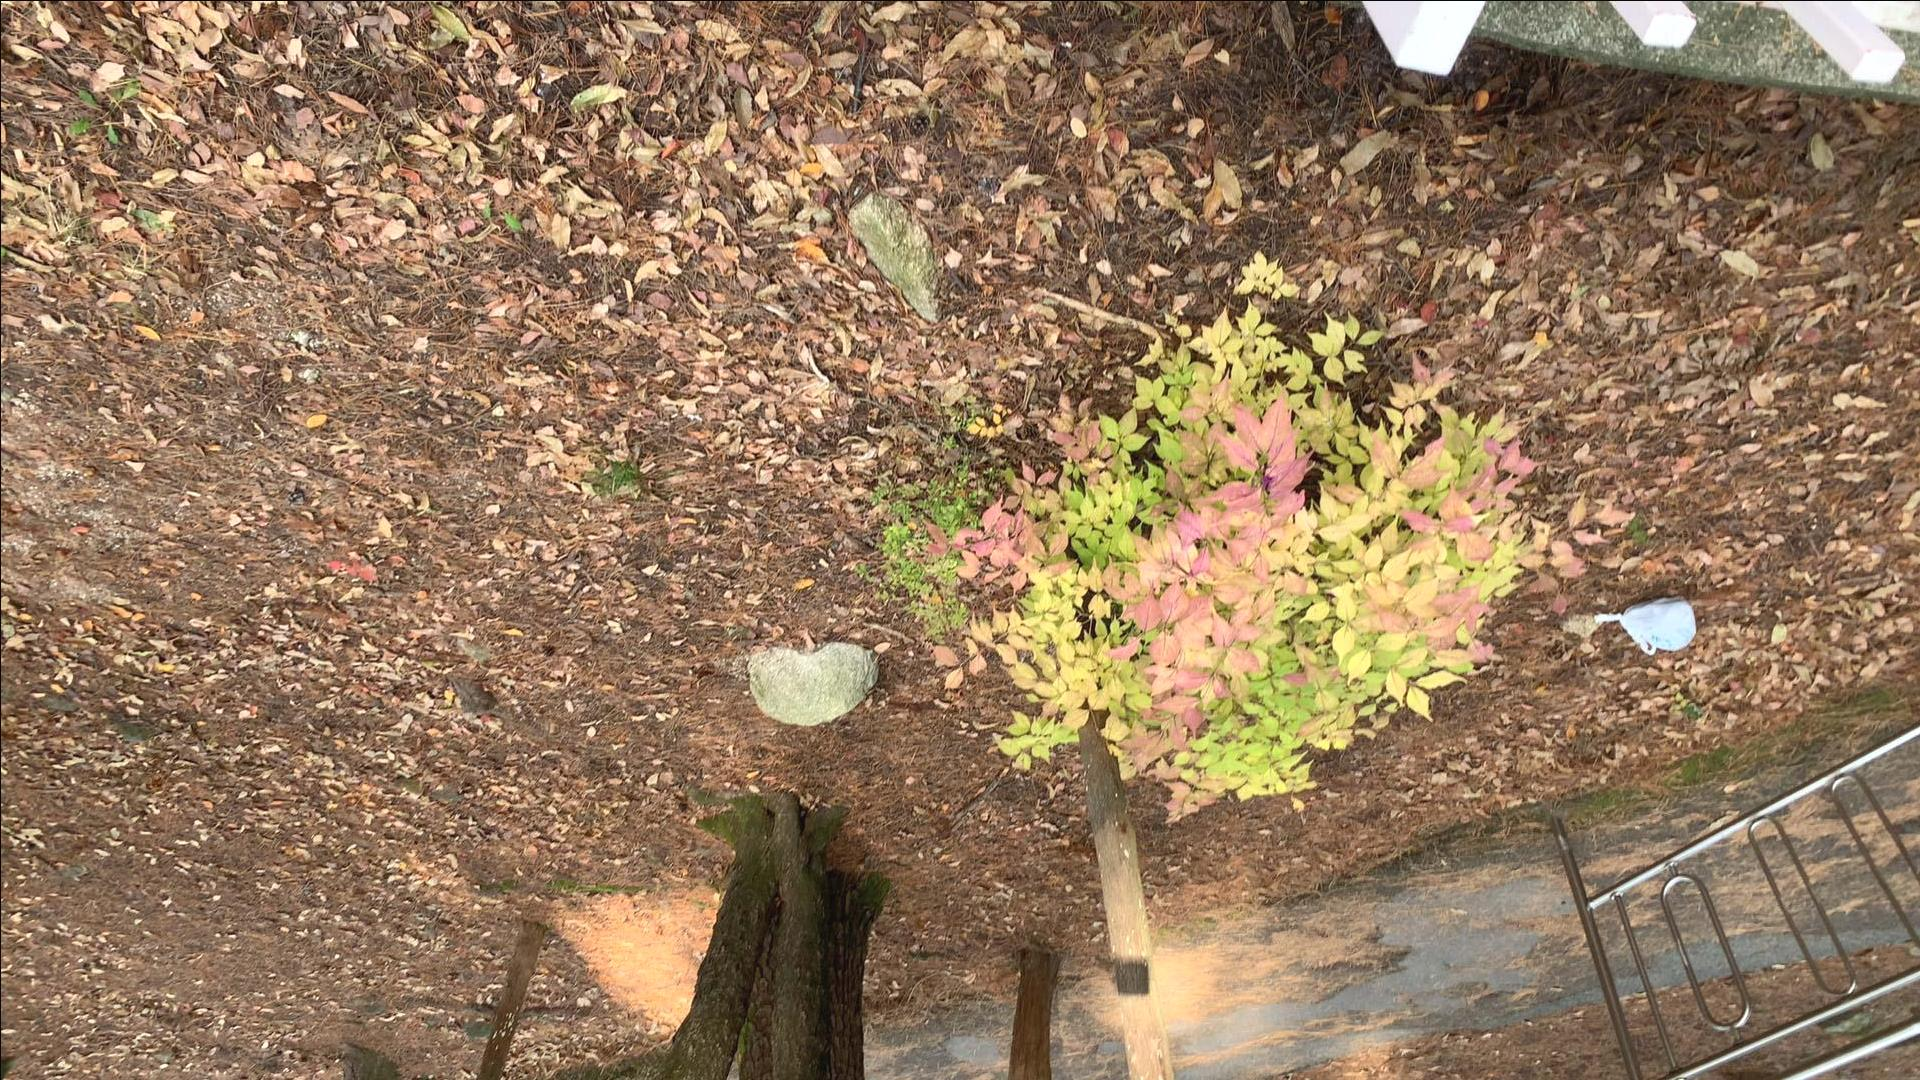white_bag: (1590, 595, 1712, 662)
